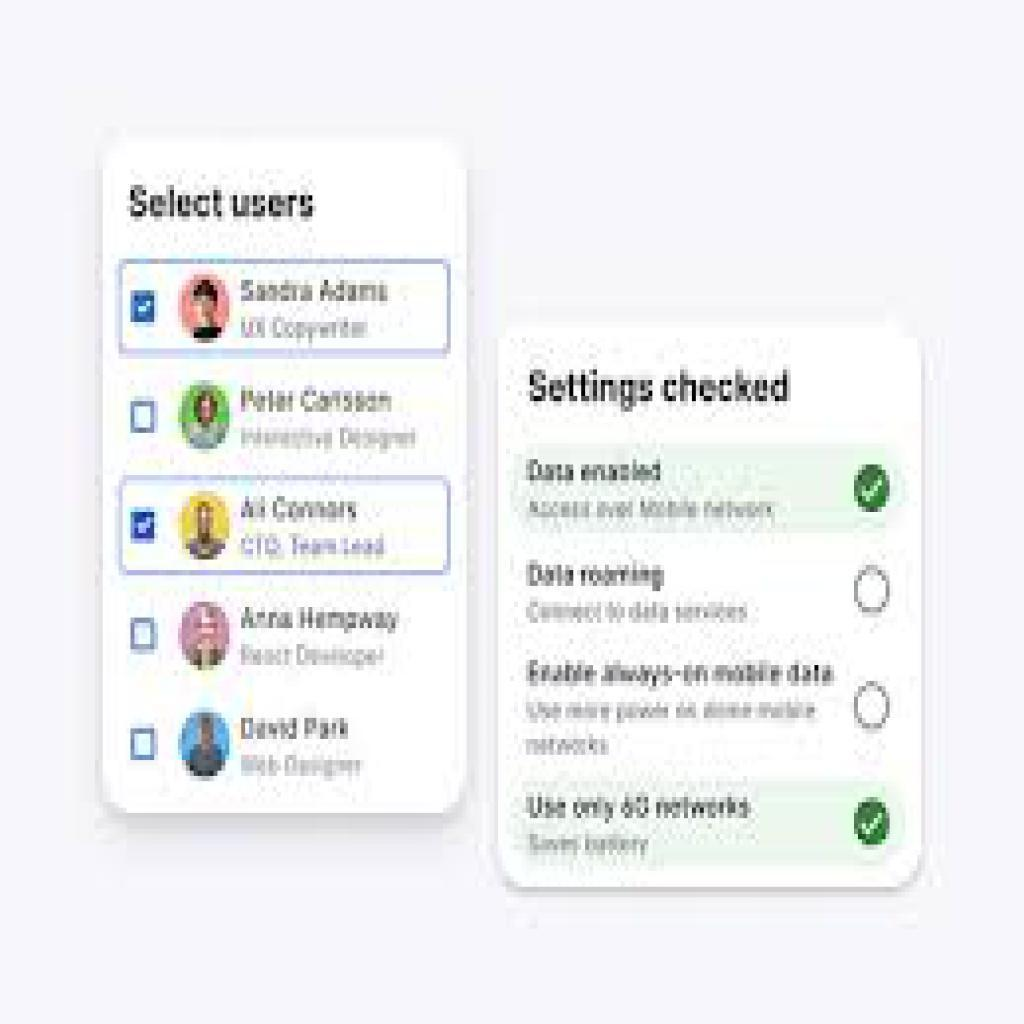checkbox: (131, 510, 161, 543), (130, 619, 160, 652), (131, 728, 158, 761), (132, 401, 157, 435), (132, 293, 158, 325)
radio: (854, 562, 894, 617), (854, 461, 895, 514), (852, 798, 893, 850), (854, 681, 893, 735)
